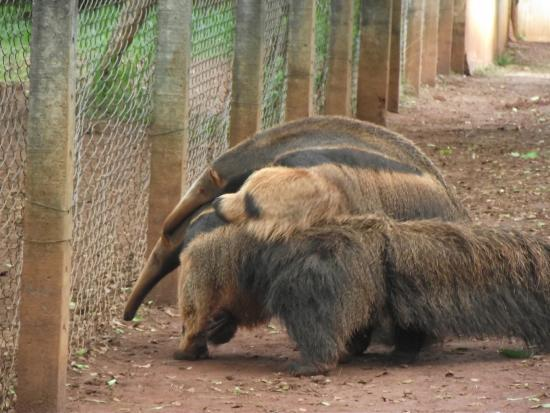TamanduaBandeira: (118, 204, 547, 378), (158, 110, 477, 243)
